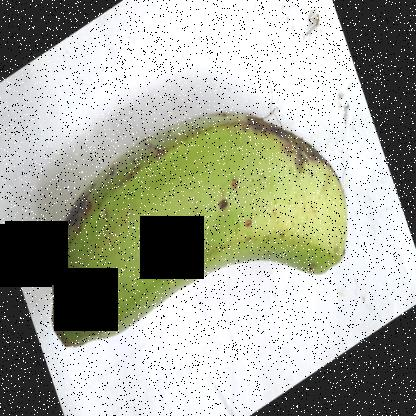unripe: (40, 83, 362, 361)
